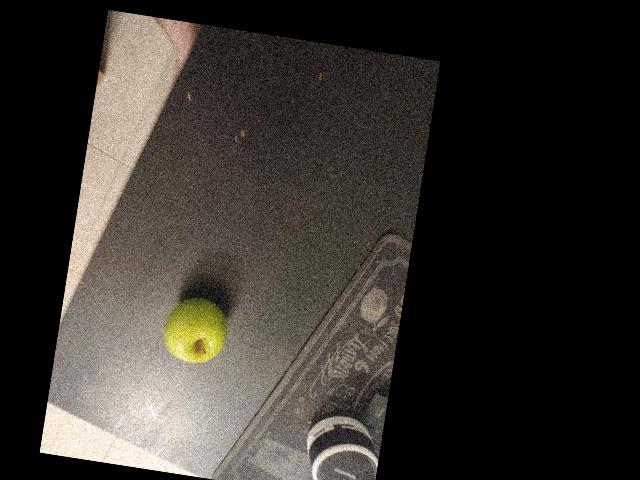apple: (199, 310, 293, 385)
